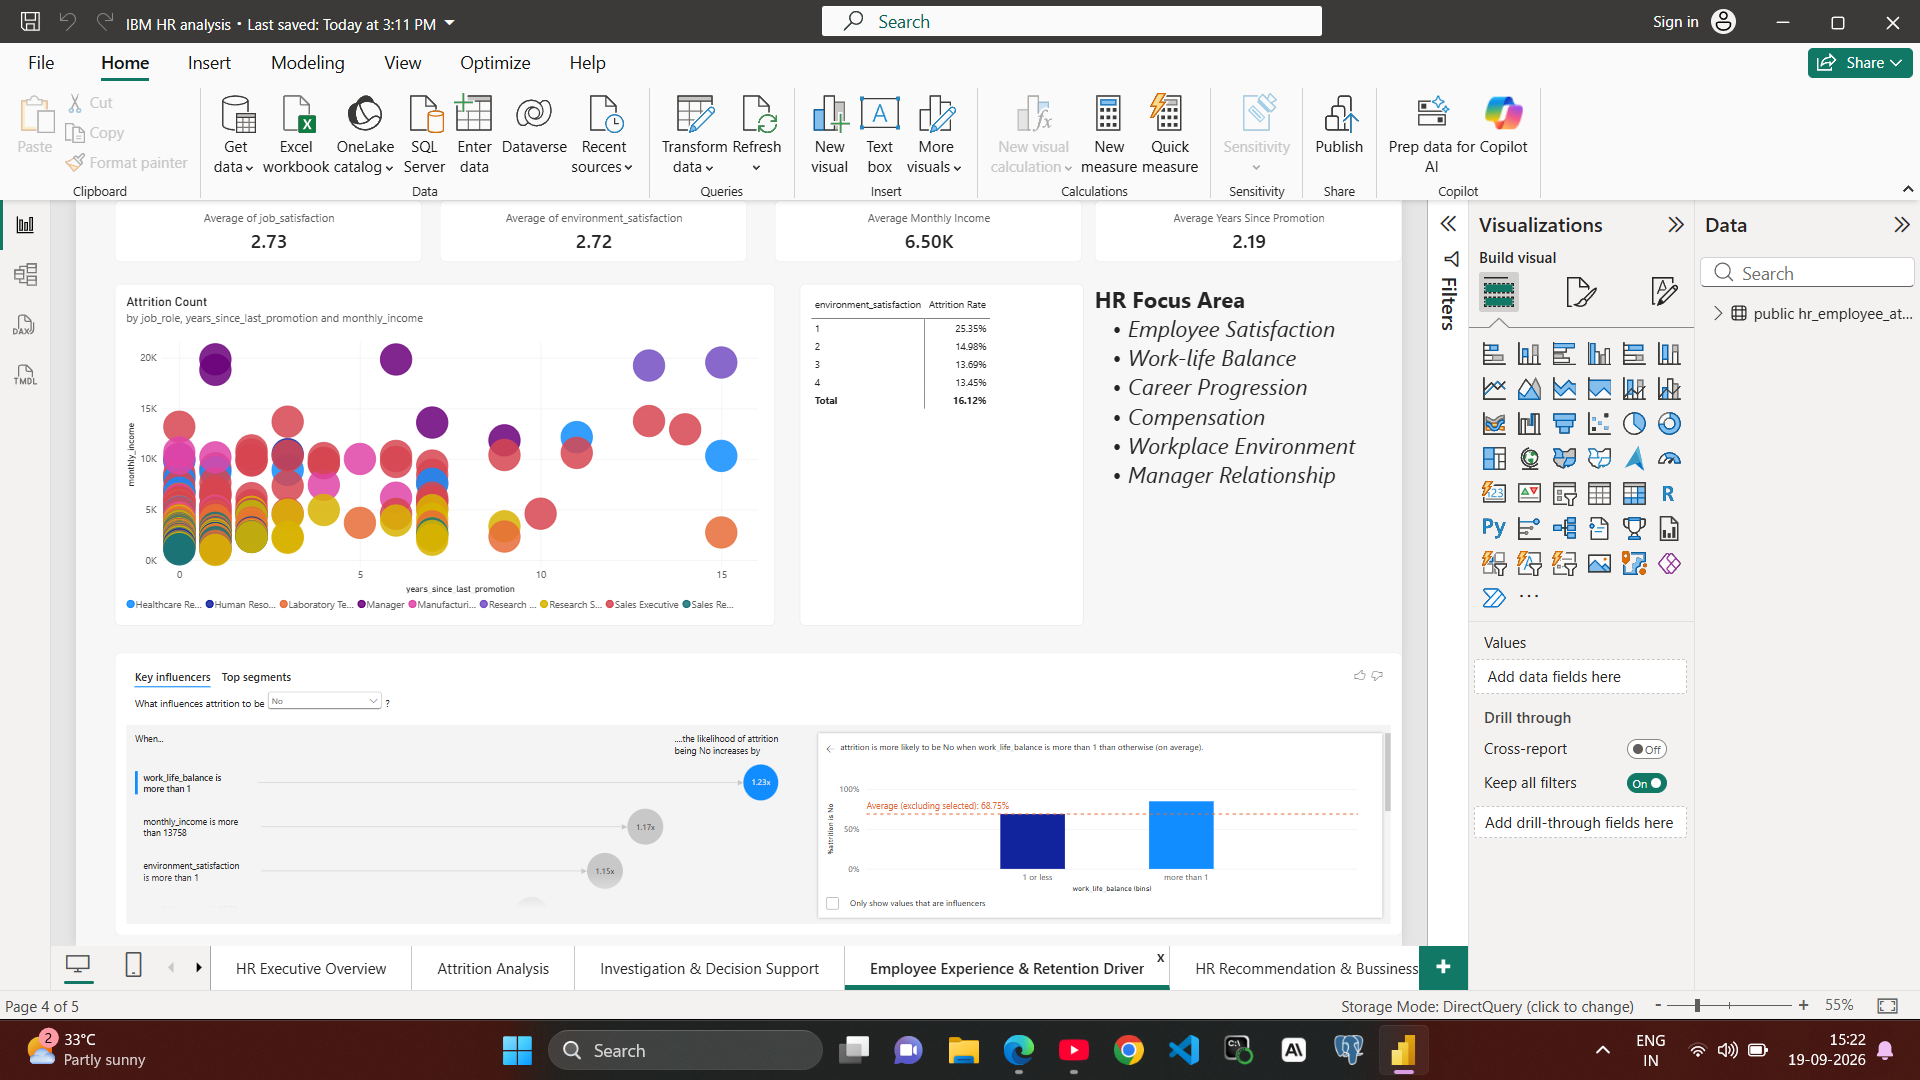

This screenshot's page, from the dashboard's own definition file:
{"tool":"powerbi","page":{"name":"Employee Experience & Retention Driver","canvas":[1920,1080],"ordinal":3},"visuals":[{"type":"cardVisual","fields":{"Data":["Avg(public hr_employee_attrition.job_satisfaction)"]},"box":[56.1,0,445.2,90.5],"z":0},{"type":"cardVisual","fields":{"Data":["Avg(public hr_employee_attrition.environment_satisfaction)"]},"box":[526.2,0,445.2,90.5],"z":1},{"type":"cardVisual","fields":{"Data":["public hr_employee_attrition.Average Monthly Income"]},"box":[1012.3,0,445.2,90.5],"z":2},{"type":"cardVisual","fields":{"Data":["public hr_employee_attrition.Average Years Since Promotion"]},"box":[1474.5,0,445.2,90.5],"z":3},{"type":"pivotTable","fields":{"Rows":["public hr_employee_attrition.environment_satisfaction"],"Values":["public hr_employee_attrition.Attrition Rate"]},"box":[1047,120.6,411.1,495.2],"z":4},{"type":"scatterChart","fields":{"Series":["public hr_employee_attrition.job_role"],"Size":["public hr_employee_attrition.Attrition Count"],"X":["public hr_employee_attrition.years_since_last_promotion"],"Y":["public hr_employee_attrition.monthly_income"]},"box":[56.6,120.6,955.6,495.2],"z":5},{"type":"keyDriversVisual","fields":{"ExplainBy":["public hr_employee_attrition.job_satisfaction","public hr_employee_attrition.relationship_satisfaction","public hr_employee_attrition.years_since_last_promotion","public hr_employee_attrition.job_involvement","public hr_employee_attrition.monthly_income","public hr_employee_attrition.work_life_balance","public hr_employee_attrition.environment_satisfaction"],"Target":["public hr_employee_attrition.attrition"]},"box":[56.6,656,1863.7,409.3],"z":6},{"type":"textbox","box":[1474.5,120.6,445.8,378.2],"z":7}]}

Visuals, with their boxes on the page's 1920x1080 design canvas (x1, y1, x2, y2). These are canvas units, not pixel positions in the 1920x1080 screenshot, which may show the page scaled, cropped or inside an application window:
cardVisual - Avg(public hr_employee_attrition.job_satisfaction): x1=56 y1=0 x2=501 y2=90
cardVisual - Avg(public hr_employee_attrition.environment_satisfaction): x1=526 y1=0 x2=971 y2=90
cardVisual - public hr_employee_attrition.Average Monthly Income: x1=1012 y1=0 x2=1458 y2=90
cardVisual - public hr_employee_attrition.Average Years Since Promotion: x1=1474 y1=0 x2=1920 y2=90
pivotTable - public hr_employee_attrition.environment_satisfaction x public hr_employee_attrition.Attrition Rate: x1=1047 y1=121 x2=1458 y2=616
scatterChart - public hr_employee_attrition.job_role x public hr_employee_attrition.Attrition Count: x1=57 y1=121 x2=1012 y2=616
keyDriversVisual - public hr_employee_attrition.job_satisfaction x public hr_employee_attrition.relationship_satisfaction: x1=57 y1=656 x2=1920 y2=1065
textbox: x1=1474 y1=121 x2=1920 y2=499
